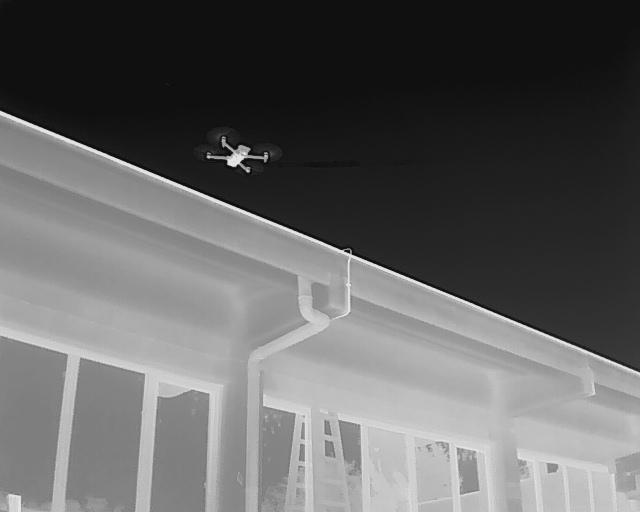drone: (193, 121, 284, 190)
